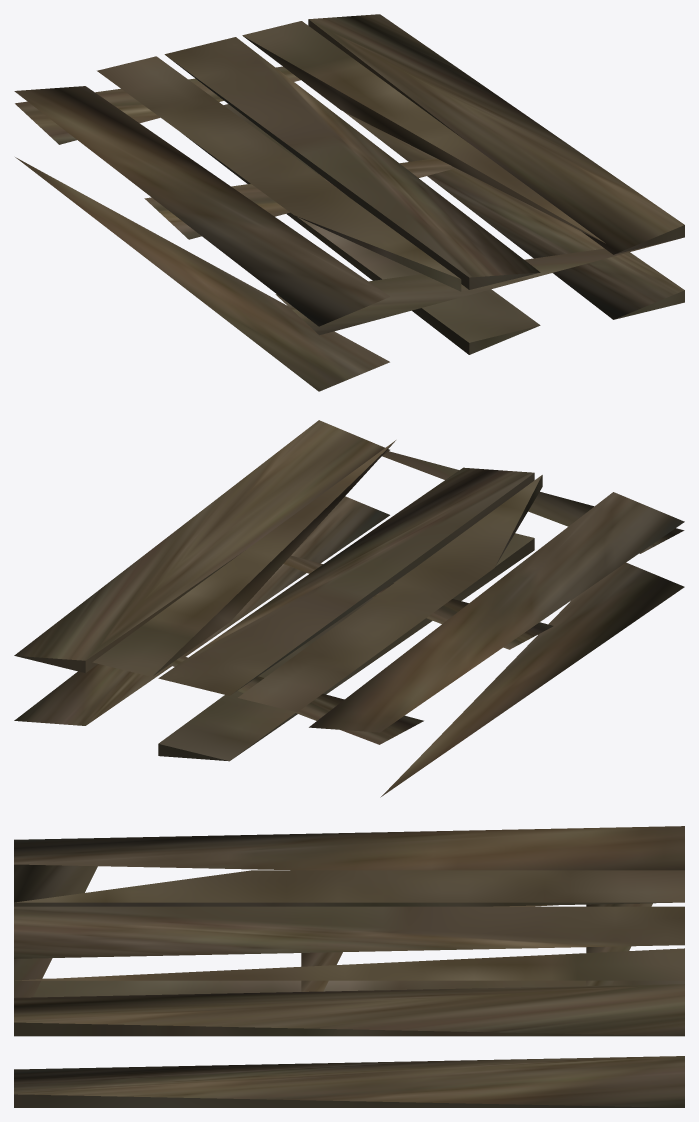
3 renders of one model, top to bottom at view 1: azimuth 30°, elevation 25°; view 2: azimuth 150°, elevation 25°; view 3: azimuth 270°, elevation 25°, orthographic. The views are drawn at different scales.
Visible parts, largest first — view 1: palet; view 2: palet; view 3: palet.
Boxes of the visible parts, x1=… form: palet: x1=14, y1=14, x2=684, y2=391; palet: x1=14, y1=420, x2=684, y2=797; palet: x1=14, y1=826, x2=684, y2=1107.
Bounding box in the file's own units: 0.8315 × 0.1684 × 1.2.
1 material, 1 textured.
